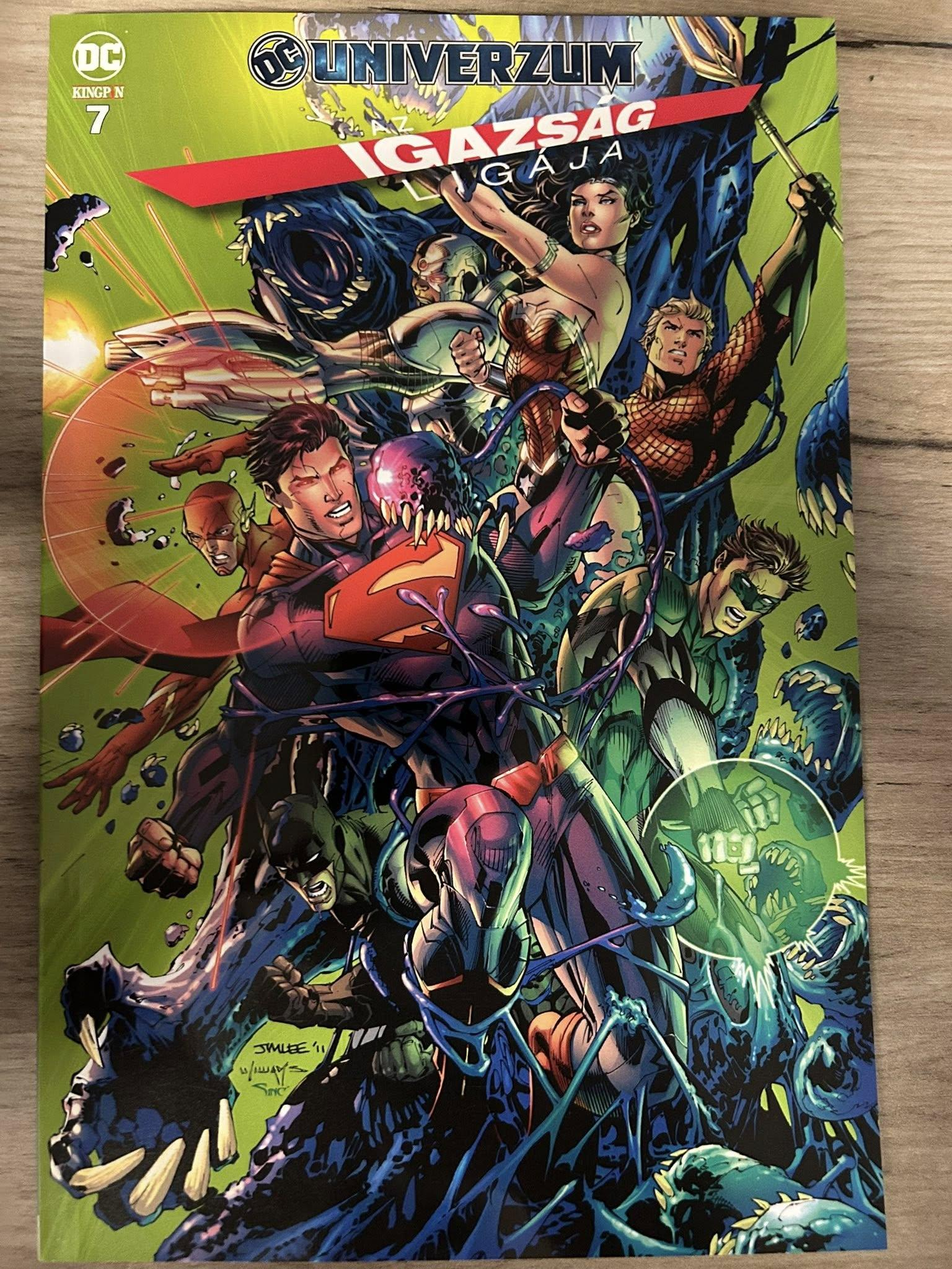comic: (31, 9, 885, 1263)
